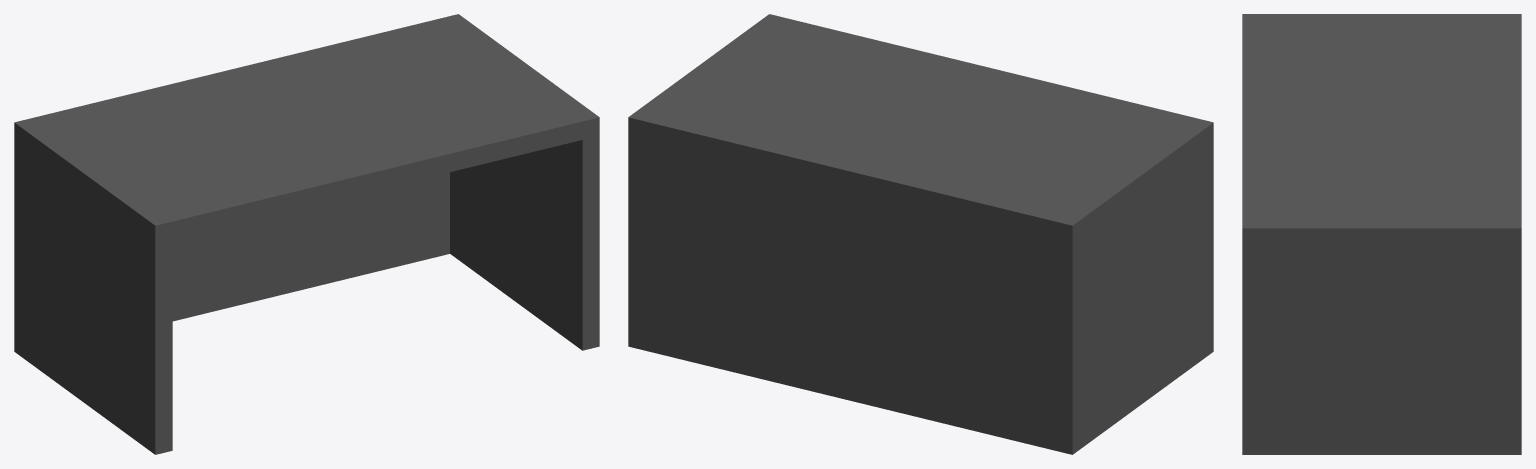
File: Itr_Wardrobe2_Body1_04.FBX
3 views of the same model, side by side, from view 1: azimuth 30°, elevation 25°; view 2: azimuth 150°, elevation 25°; view 3: azimuth 270°, elevation 25° (orthographic).
Parts seen in each view (by area): view 1: Itr_Wardrobe2_Body1_04; view 2: Itr_Wardrobe2_Body1_04; view 3: Itr_Wardrobe2_Body1_04.
Boxes of the visible parts, x1,y1,x2,y2 form: Itr_Wardrobe2_Body1_04: (14, 14, 599, 454); Itr_Wardrobe2_Body1_04: (628, 14, 1213, 454); Itr_Wardrobe2_Body1_04: (1242, 14, 1521, 454).
Size of the model in its own units: 39.14 by 19.29 by 21.54.
